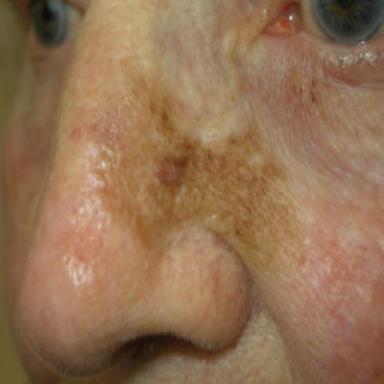Melanoma: (96, 51, 308, 279)
